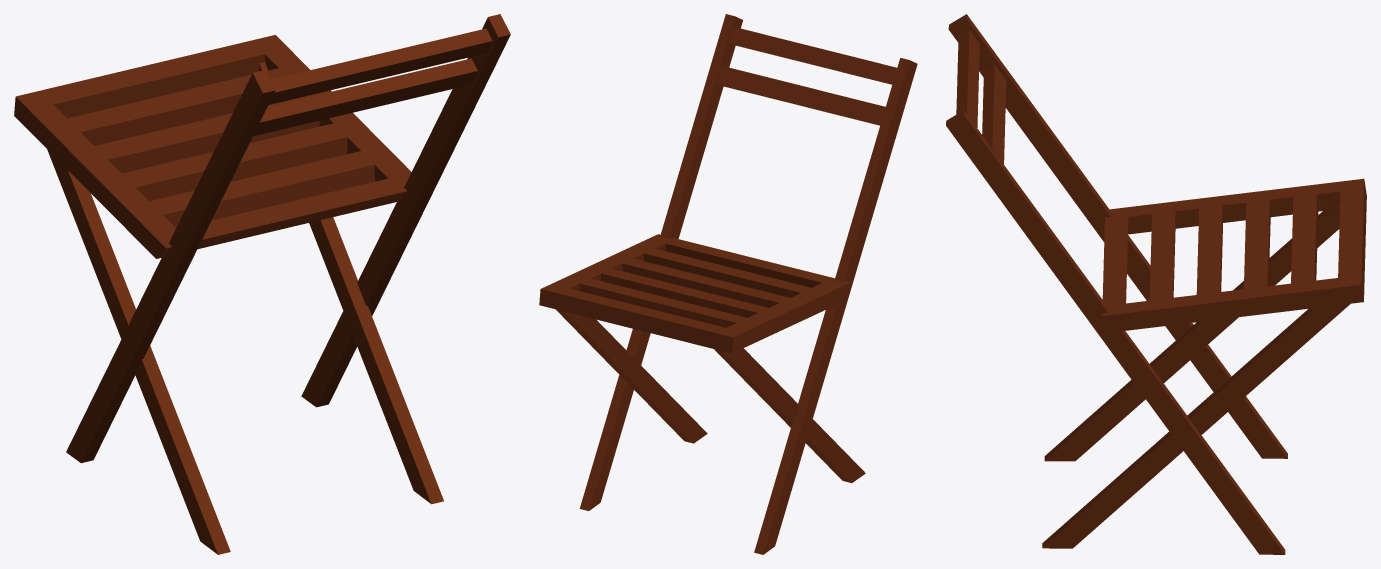
Rendered from silla.obj.
3 views of the same model, side by side, from view 1: azimuth 30°, elevation 25°; view 2: azimuth 150°, elevation 25°; view 3: azimuth 270°, elevation 25° (orthographic). The views are drawn at different scales.
Visible parts, largest first — view 1: Cube.013; view 2: Cube.013; view 3: Cube.013.
Part boxes in pixels (<box>): Cube.013: <box>14,14,510,554</box>; Cube.013: <box>539,14,917,554</box>; Cube.013: <box>946,14,1366,554</box>.
Size of the model in its own units: 2.64 by 5.02 by 4.37.
